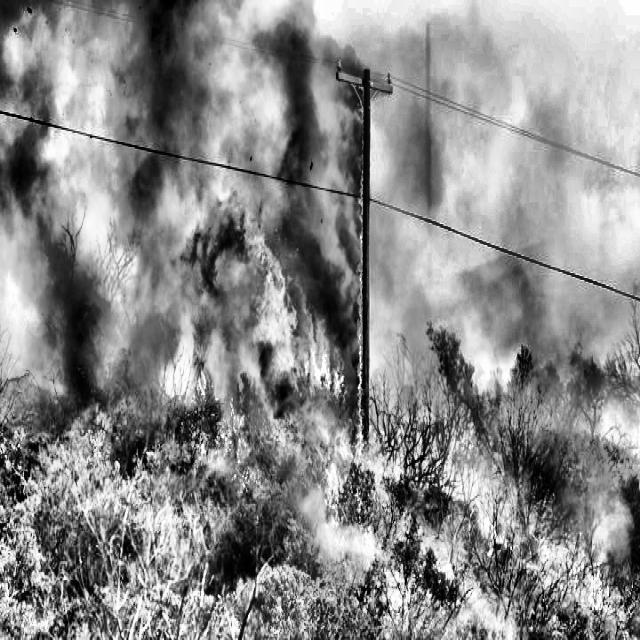fire: (181, 88, 430, 640), (28, 160, 116, 503)
